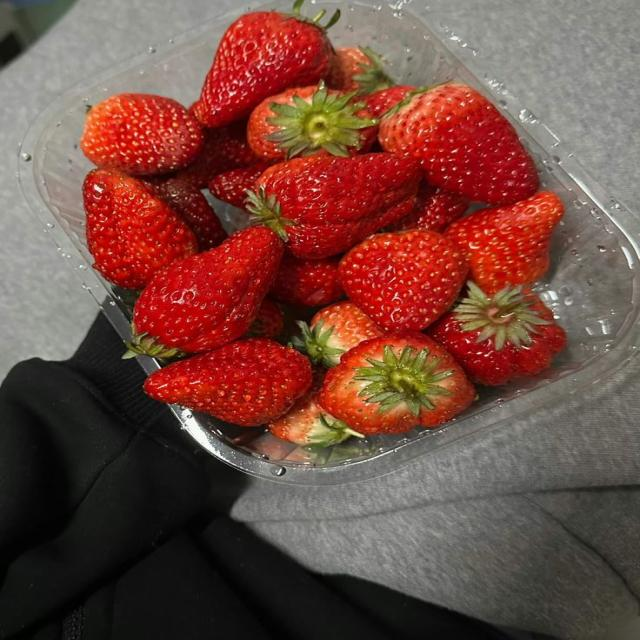strawberry: (126, 228, 282, 358), (379, 85, 539, 204), (194, 0, 339, 127), (247, 154, 420, 259), (320, 333, 475, 434), (144, 338, 312, 426), (429, 282, 566, 384), (83, 169, 197, 289), (340, 230, 467, 330), (446, 192, 563, 294), (247, 82, 377, 162), (80, 94, 203, 174), (267, 374, 363, 448), (294, 301, 384, 367), (177, 121, 259, 188), (154, 179, 226, 251), (388, 183, 469, 232), (270, 254, 344, 306), (327, 47, 393, 95), (209, 162, 268, 208), (362, 86, 415, 118), (247, 299, 283, 338)
